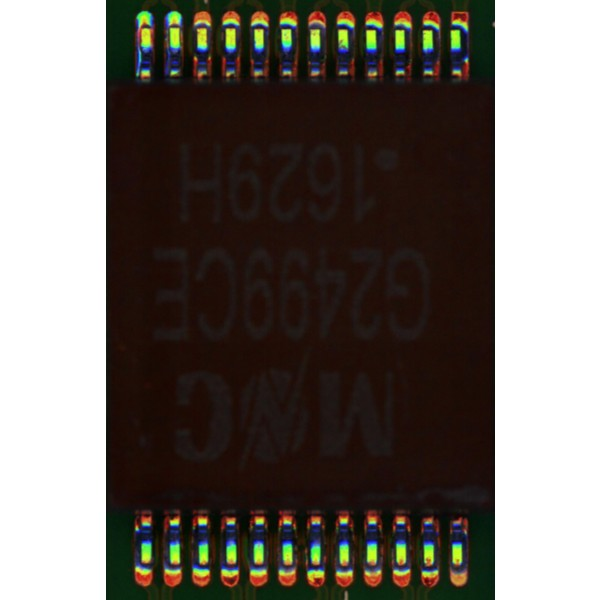Bad_podu: (141, 20, 149, 34)
Bad_qiaojiao: (135, 28, 141, 78)
